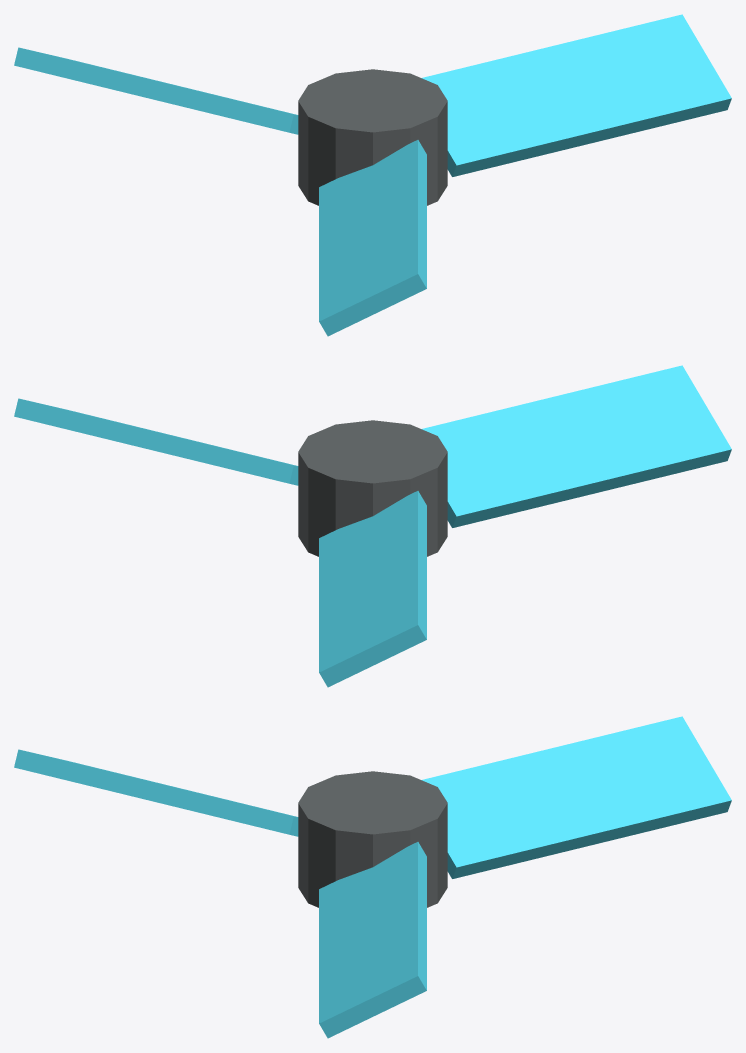
File: Fan_Blades.obj
The picture shows the model from 3 angles, top to bottom: view 1: azimuth 30°, elevation 25°; view 2: azimuth 150°, elevation 25°; view 3: azimuth 270°, elevation 25°; orthographic projection.
Parts seen in each view (by area): view 1: Fan_Blades; view 2: Fan_Blades; view 3: Fan_Blades.
Boxes of the visible parts, x1,y1,x2,y2 form: Fan_Blades: (14, 14, 731, 336); Fan_Blades: (14, 365, 731, 687); Fan_Blades: (14, 716, 731, 1038).
Bounding box in the file's own units: 0.6649 × 0.1 × 0.7678.
Materials: 1 (1 with a texture image).
